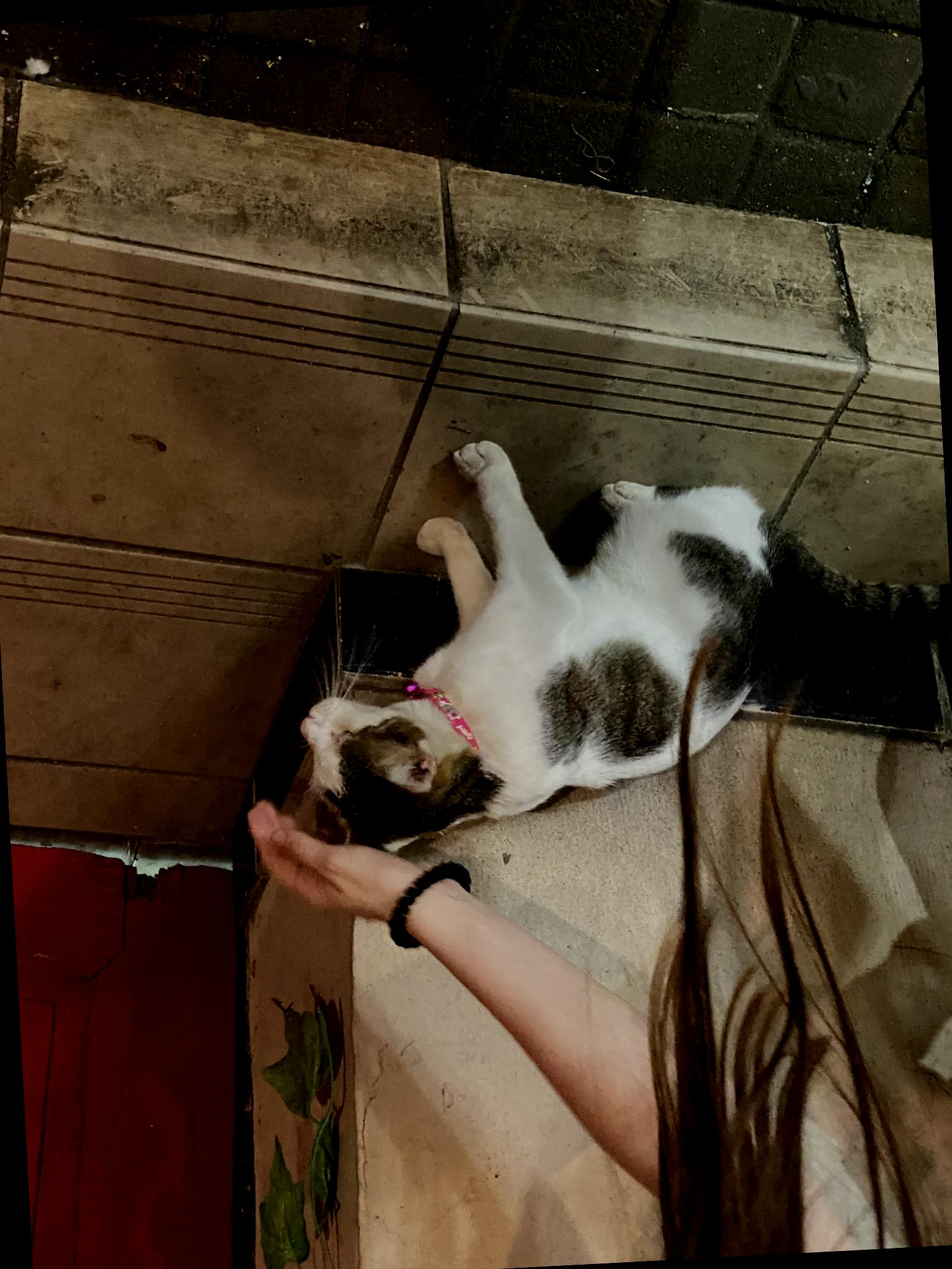macka: (282, 411, 952, 850)
